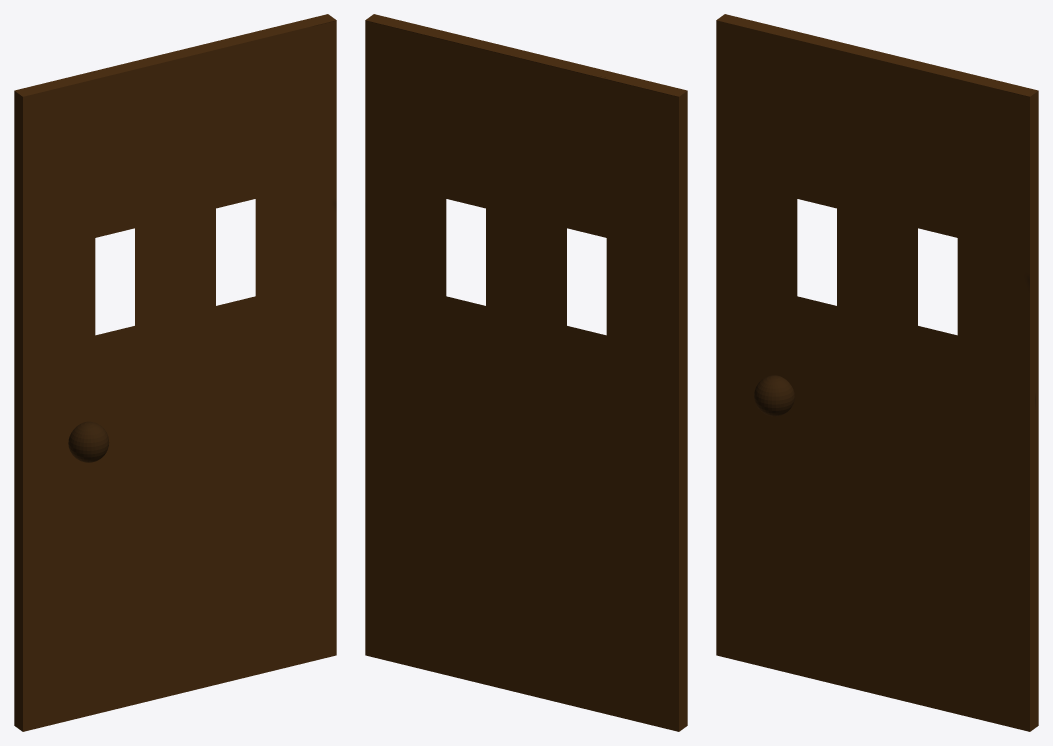
The model's file is Door.fbx.
3 views of the same model, side by side, from view 1: azimuth 30°, elevation 25°; view 2: azimuth 150°, elevation 25°; view 3: azimuth 330°, elevation 25° (orthographic).
Visible parts, largest first — view 1: Cube; view 2: Cube; view 3: Cube.
Part boxes in pixels (x1,y1,x2,y2): Cube: [14, 14, 336, 731]; Cube: [365, 14, 687, 731]; Cube: [716, 14, 1038, 731].
Size of the model in its own units: 200 by 387 by 24.98.
